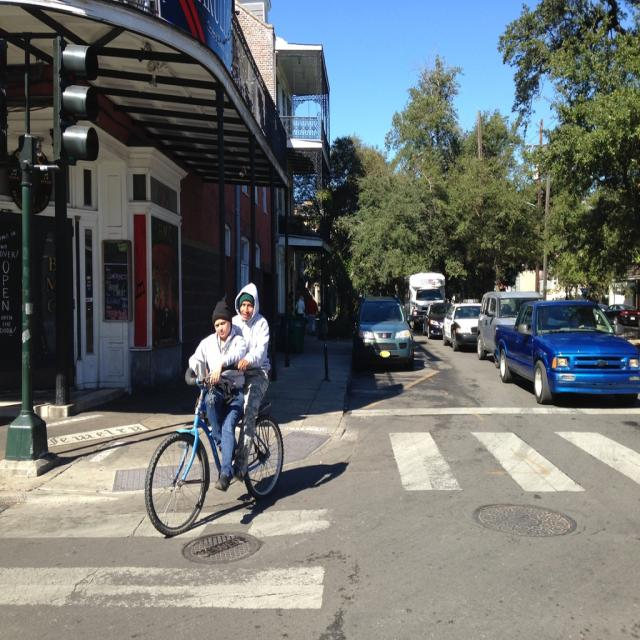car: (351, 294, 416, 369)
